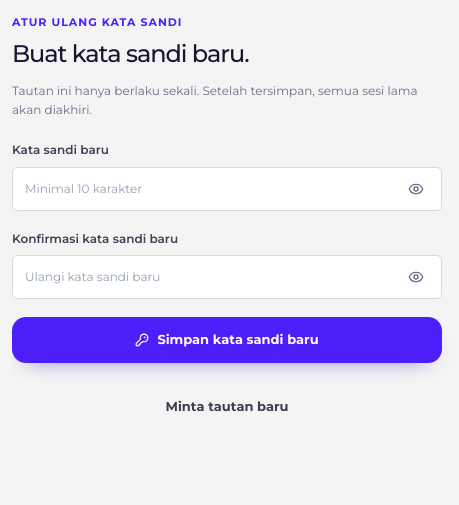
Test: halaman atur ulang kata sandi › meminta tautan baru bila token tidak ada di URL
In the password field labelled "Kata sandi baru": (227, 189) left=12, top=167, right=442, bottom=211, type "N3w-strong-password!"
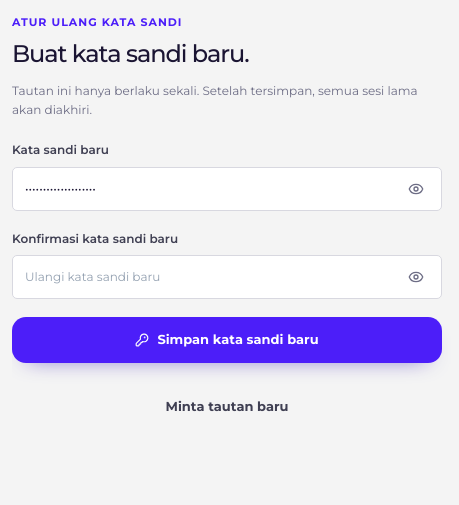
In the password field labelled "Konfirmasi kata sandi baru": (227, 277) left=12, top=255, right=442, bottom=299, type "N3w-strong-password!"
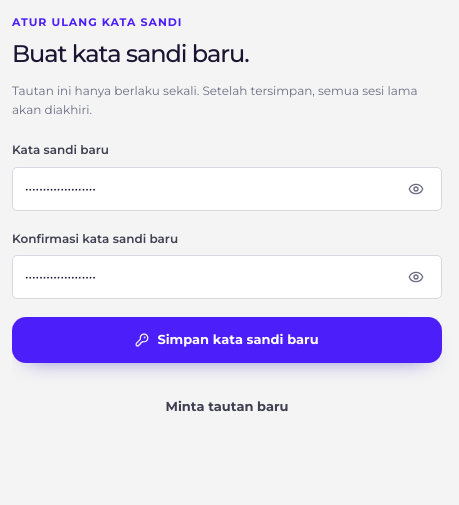
Click the button "Simpan kata sandi baru": (227, 340) left=12, top=317, right=442, bottom=363
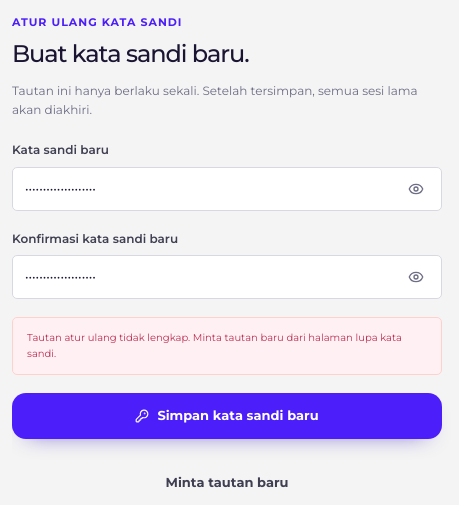
Now the message shows "Tautan atur ulang tidak lengkap", box left=27, top=331, right=402, bottom=360
